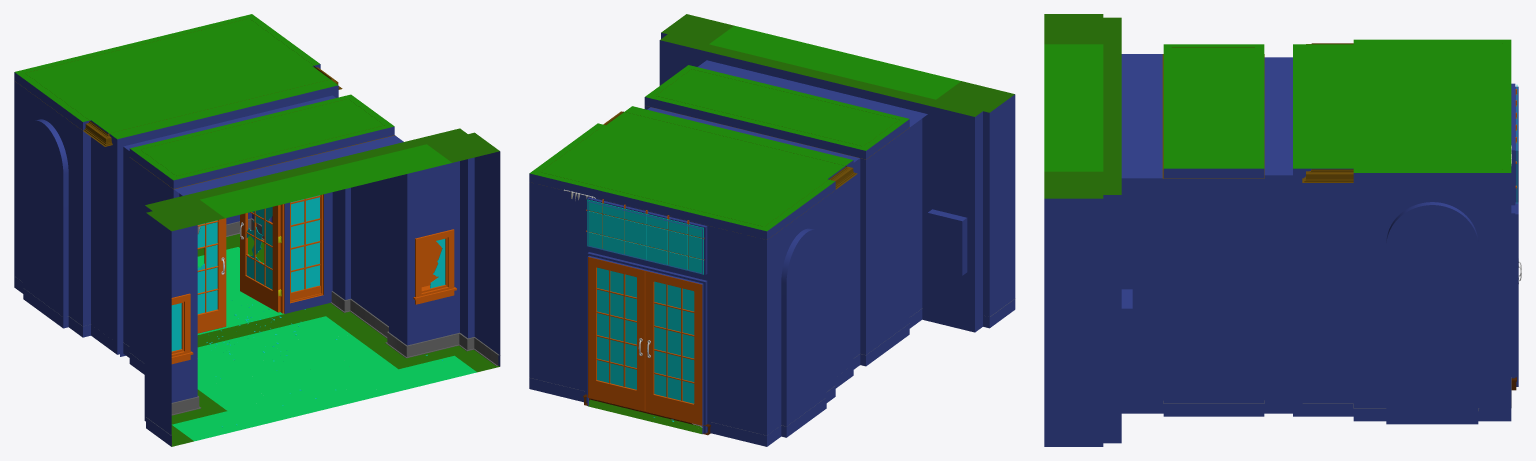
The model's file is Abandoned_Hallway.fbx.
3 renders of one model, left to right at view 1: azimuth 30°, elevation 25°; view 2: azimuth 150°, elevation 25°; view 3: azimuth 270°, elevation 25°, orthographic. The views are drawn at different scales.
Visible parts, largest first — view 1: #LCN0006_Room, #LCN0006_Doors, #LCN0006_Display_Cases; view 2: #LCN0006_Room, #LCN0006_Doors; view 3: #LCN0006_Room.
Part boxes in pixels (x1,y1,x2,y2): #LCN0006_Room: (14,14,500,446); #LCN0006_Doors: (197,205,280,333); #LCN0006_Display_Cases: (171,229,456,364); #LCN0006_Room: (529,14,1015,446); #LCN0006_Doors: (588,257,702,425); #LCN0006_Room: (1044,14,1518,446).
Bounding box in the file's own units: 5.57 × 3.53 × 6.08.
